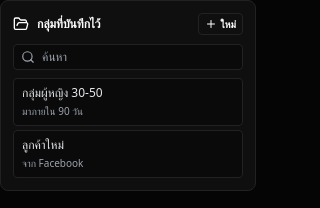
Test: T4 SavedSegmentSidebar › T4.3 search filters list
Type "ใหม่" into the field with test id "saved-segment-search" at (128, 57), box top-left (13, 44), bottom-right (243, 70)
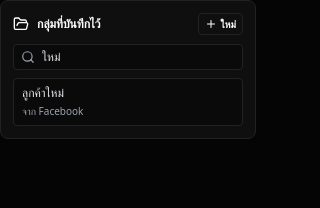
expect the text "ลูกค้าใหม่" is shown: met, box top-left (22, 84), bottom-right (64, 101)
expect the button "กลุ่มผู้หญิง 30-50" is gone: met
